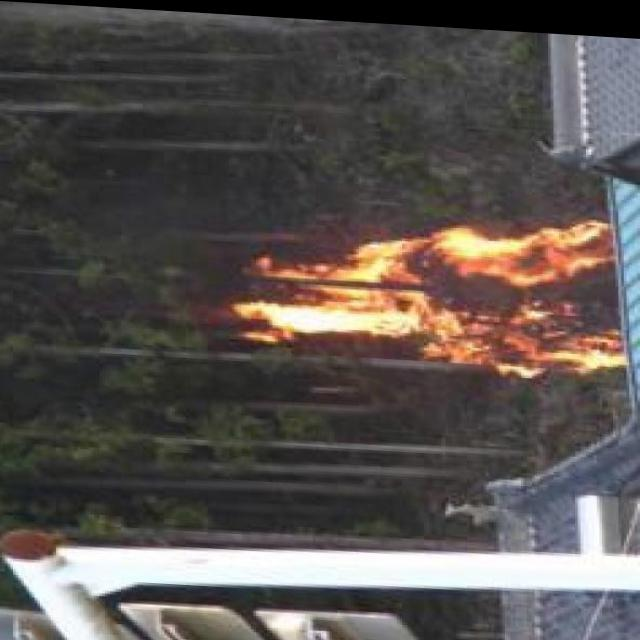Fire: (246, 198, 626, 378)
